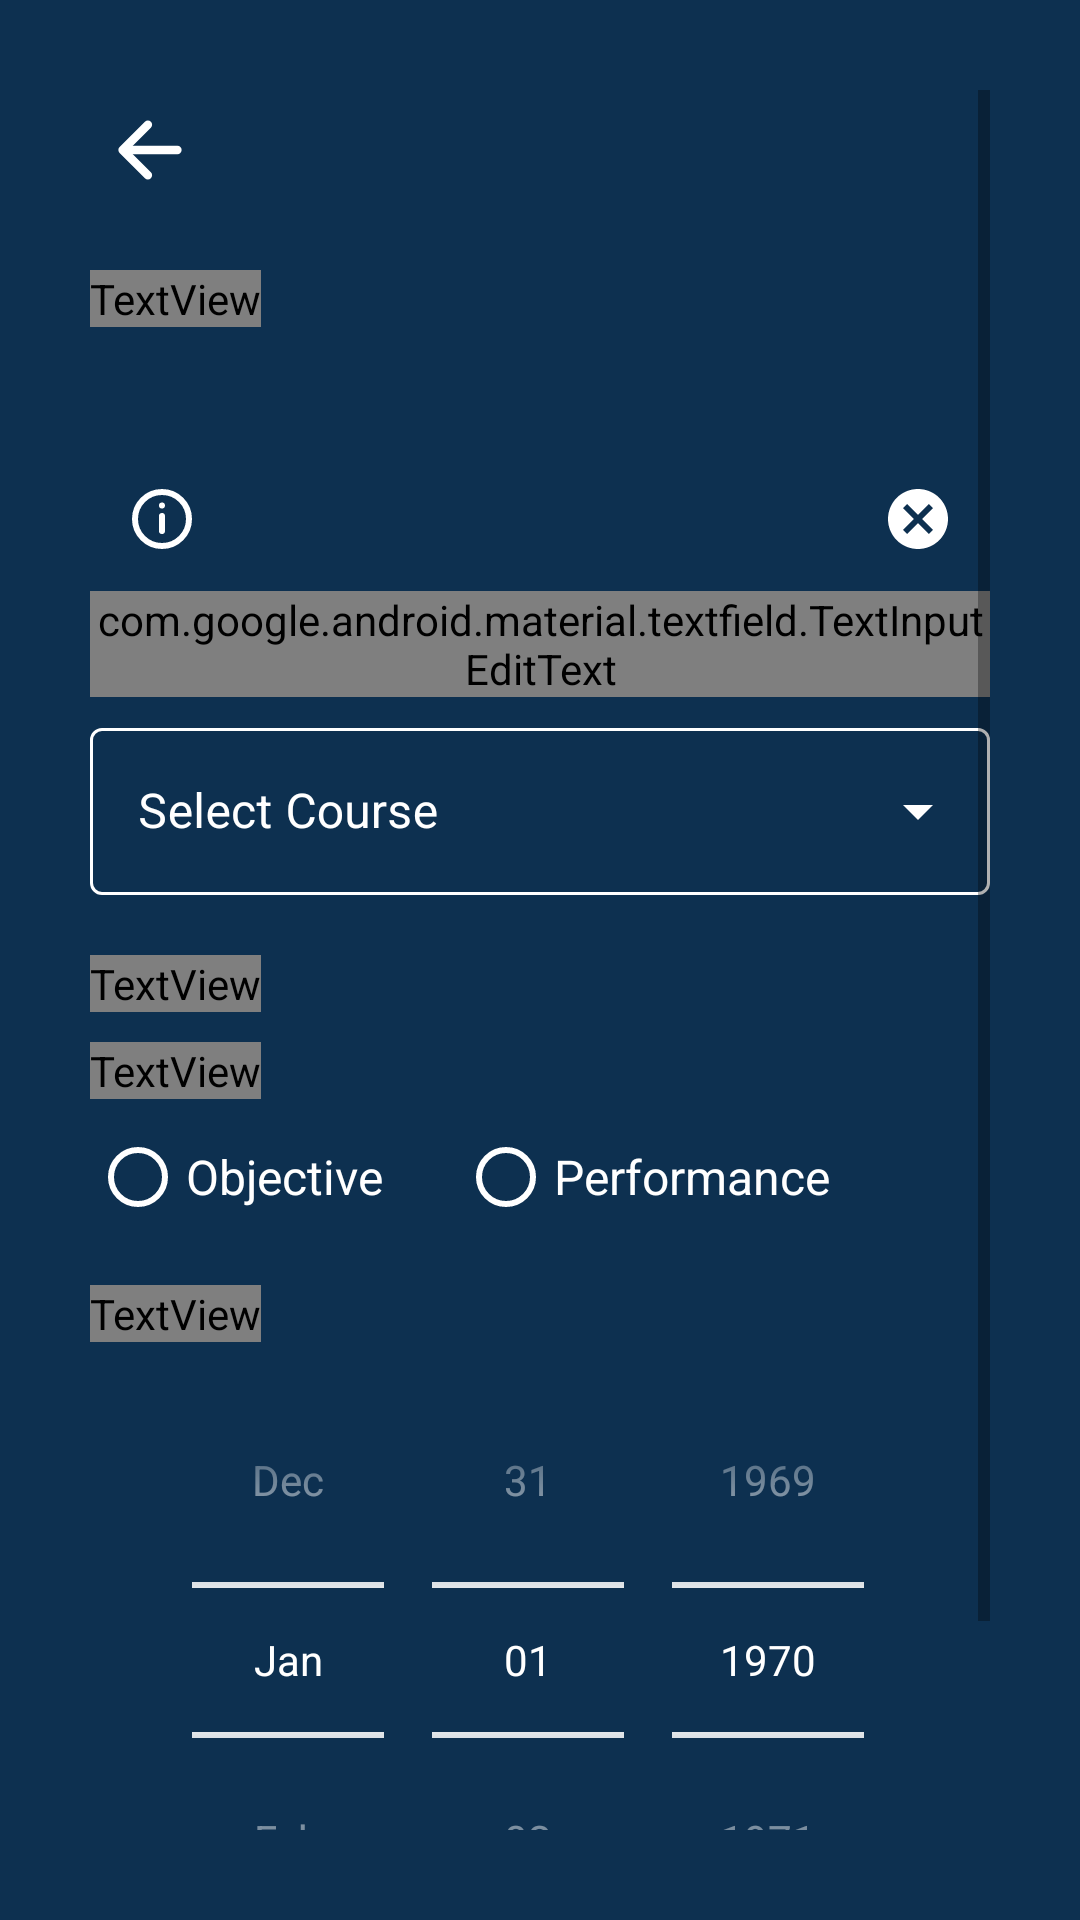

Icons on this 1080*1920 Android screen, each with the point to tap as (x,y):
arrow back: (150,150)
